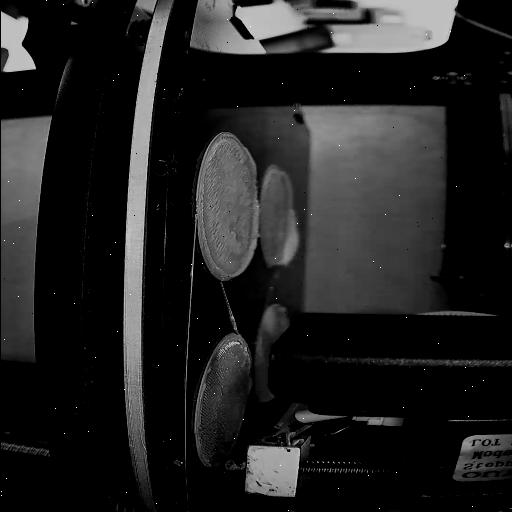over_extrusion: (197, 198, 260, 278), (276, 208, 298, 272), (278, 170, 297, 204), (268, 301, 288, 333), (240, 148, 262, 176)
